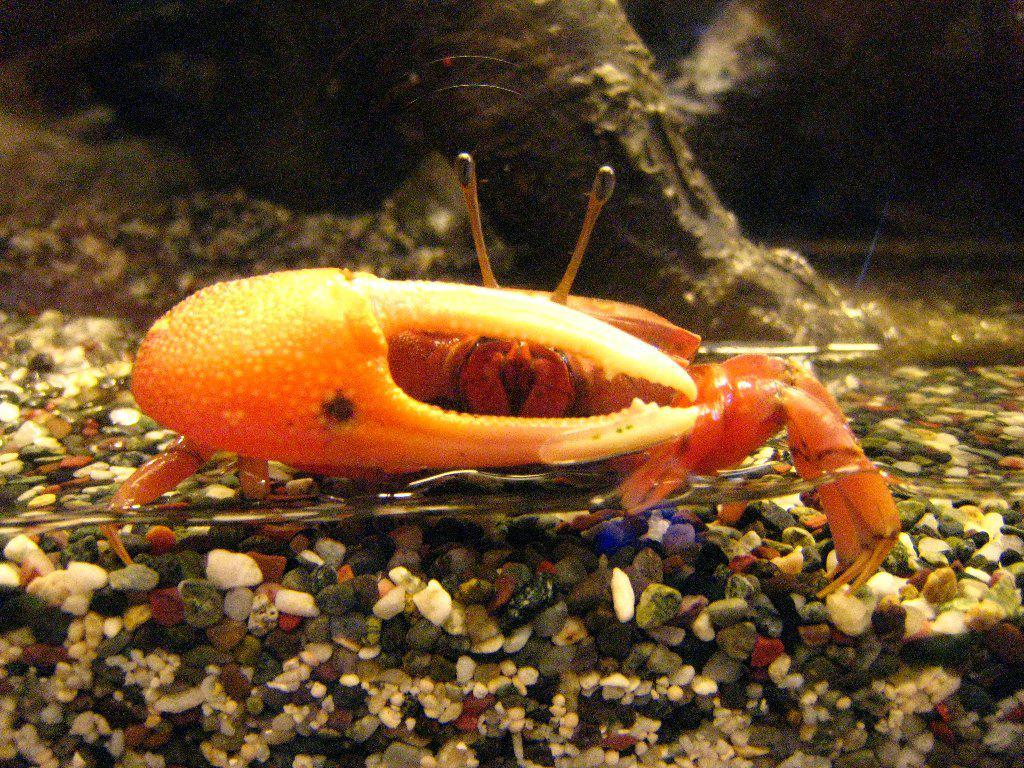Crab: (104, 153, 912, 606)
